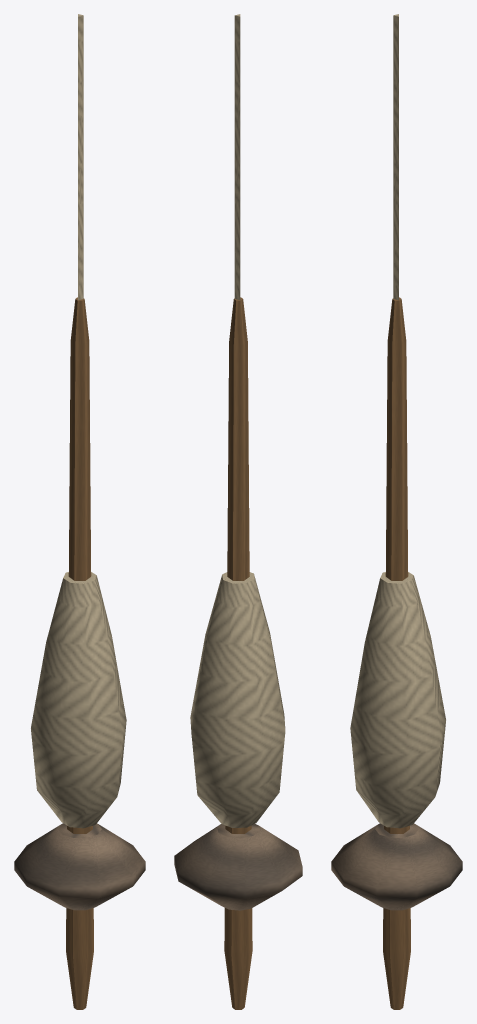
File: spindle_whorl.glb
3 renders of one model, left to right at view 1: azimuth 90°, elevation 25°; view 2: azimuth 150°, elevation 25°; view 3: azimuth 270°, elevation 25°, orthographic.
Visible parts, largest first — view 1: spindle_whorl; view 2: spindle_whorl; view 3: spindle_whorl.
Part boxes in pixels (<box>): spindle_whorl: <box>14,14,145,1009</box>; spindle_whorl: <box>174,14,302,1009</box>; spindle_whorl: <box>331,14,462,1009</box>.
Size of the model in its own units: 0.0399 by 0.35 by 0.042.
Materials: 1 (1 with a texture image).
